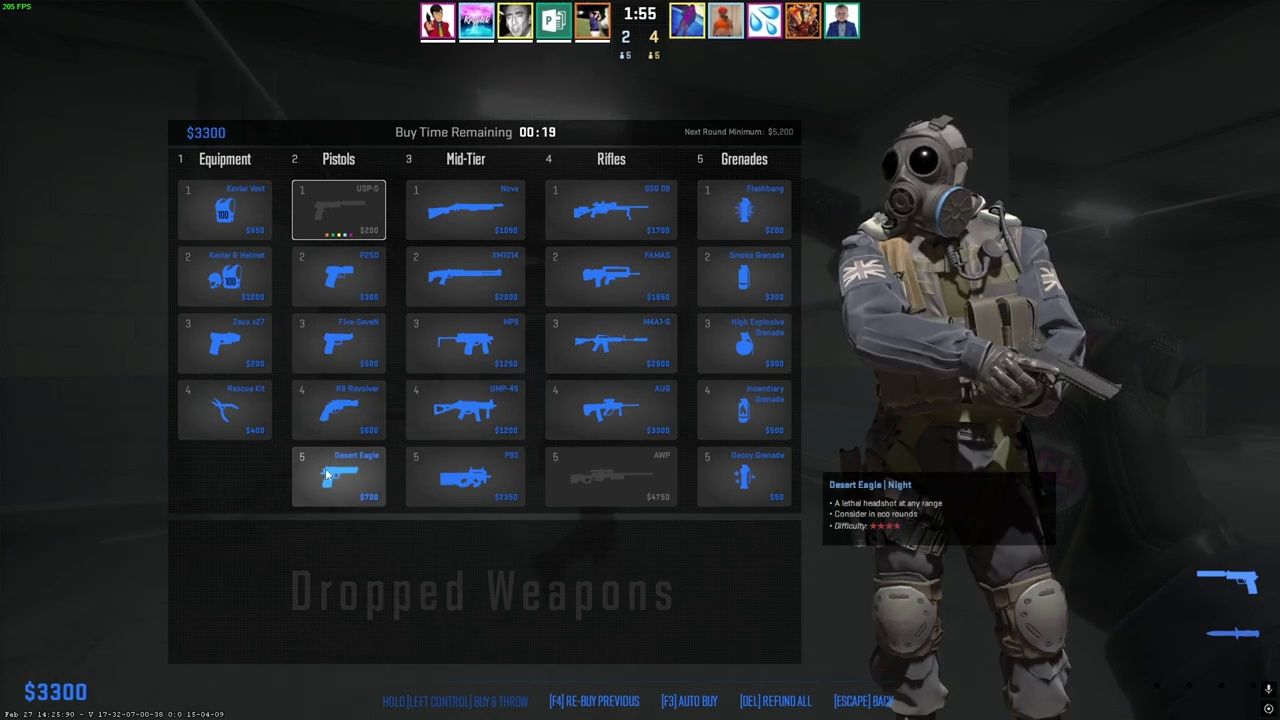CT: (854, 122, 1080, 720)
